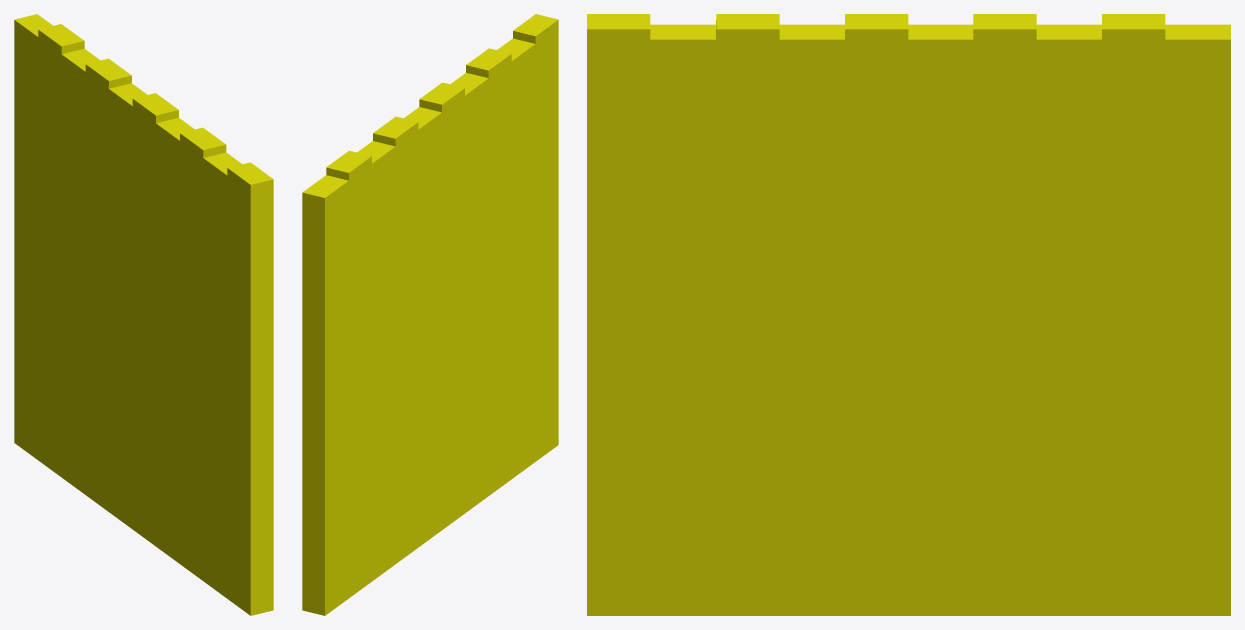
File: Background_Wall_01.fbx
The picture shows the model from 3 angles, left to right: view 1: azimuth 30°, elevation 25°; view 2: azimuth 150°, elevation 25°; view 3: azimuth 270°, elevation 25°; orthographic projection. The views are drawn at different scales.
Visible parts, largest first — view 1: Background_Wall_01; view 2: Background_Wall_01; view 3: Background_Wall_01.
Part boxes in pixels (x1,y1,x2,y2): Background_Wall_01: (14,14,273,615); Background_Wall_01: (302,14,558,615); Background_Wall_01: (587,14,1230,615).
Size of the model in its own units: 197 by 3532 by 3514.
